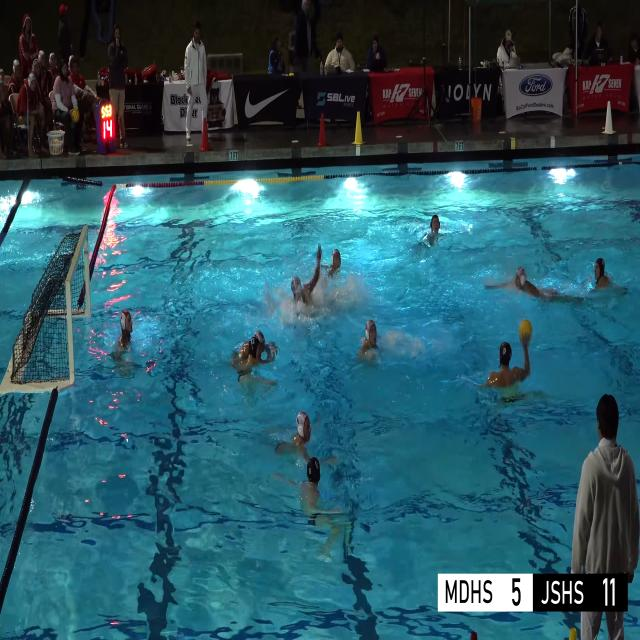ball: (519, 319, 532, 341), (71, 108, 80, 122)
